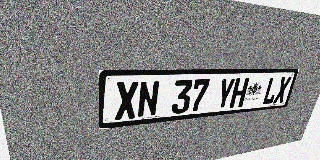3: (171, 80, 193, 114)
7: (188, 79, 210, 112)
H: (229, 78, 250, 108)
L: (261, 77, 281, 105)
N: (137, 81, 160, 118)
X: (115, 81, 138, 120), (273, 77, 292, 103)
Y: (215, 78, 236, 110)
